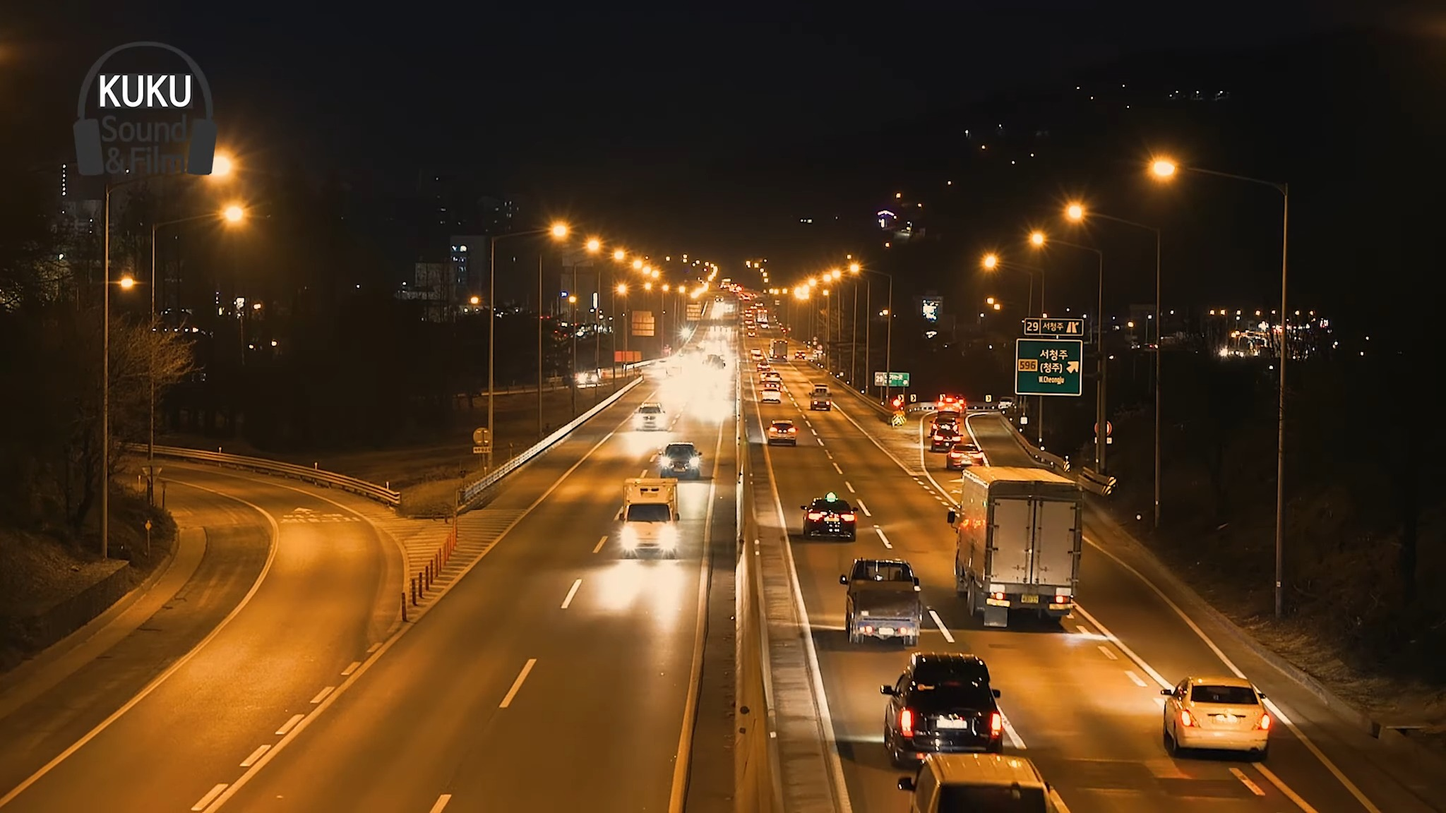car: (888, 653, 1007, 769), (1164, 674, 1272, 749), (800, 498, 863, 542)
truck: (954, 466, 1092, 634), (841, 554, 929, 649), (616, 478, 685, 557)
